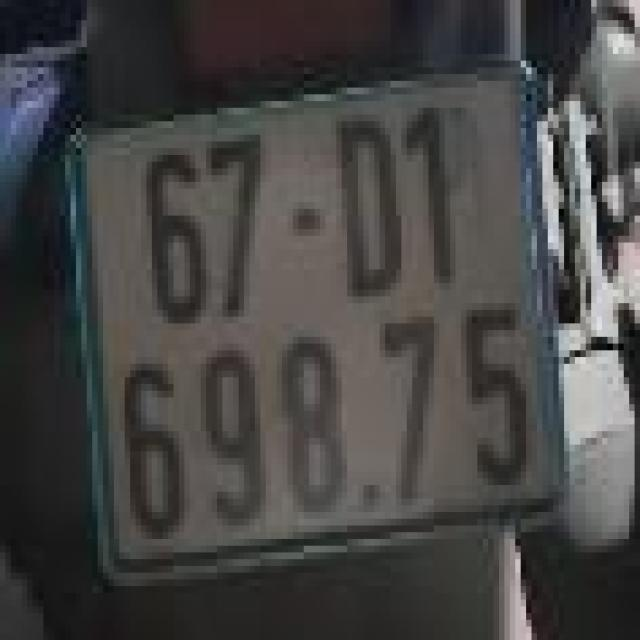1: (393, 98, 469, 293)
5: (445, 293, 542, 488)
6: (111, 360, 187, 542), (138, 152, 214, 326)
7: (361, 317, 442, 505), (201, 132, 282, 306)
8: (279, 330, 366, 519)
9: (195, 333, 277, 529)
D: (320, 108, 412, 310)
